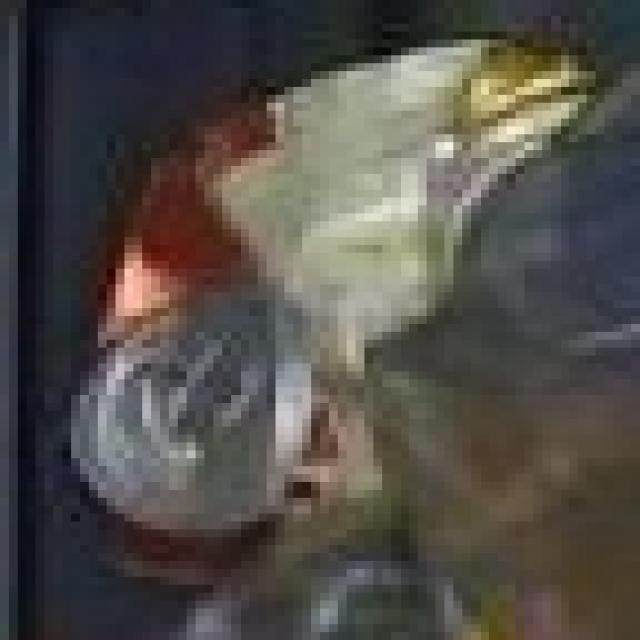can: (79, 27, 576, 536)
